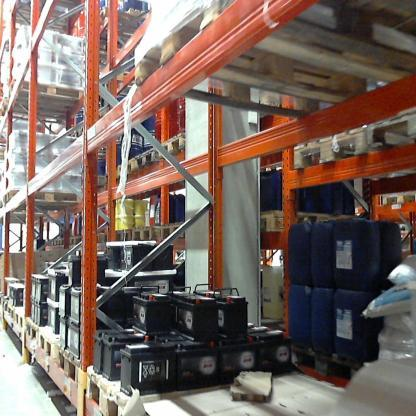pallets: (0, 292, 123, 412), (289, 341, 371, 389), (115, 130, 187, 179)
